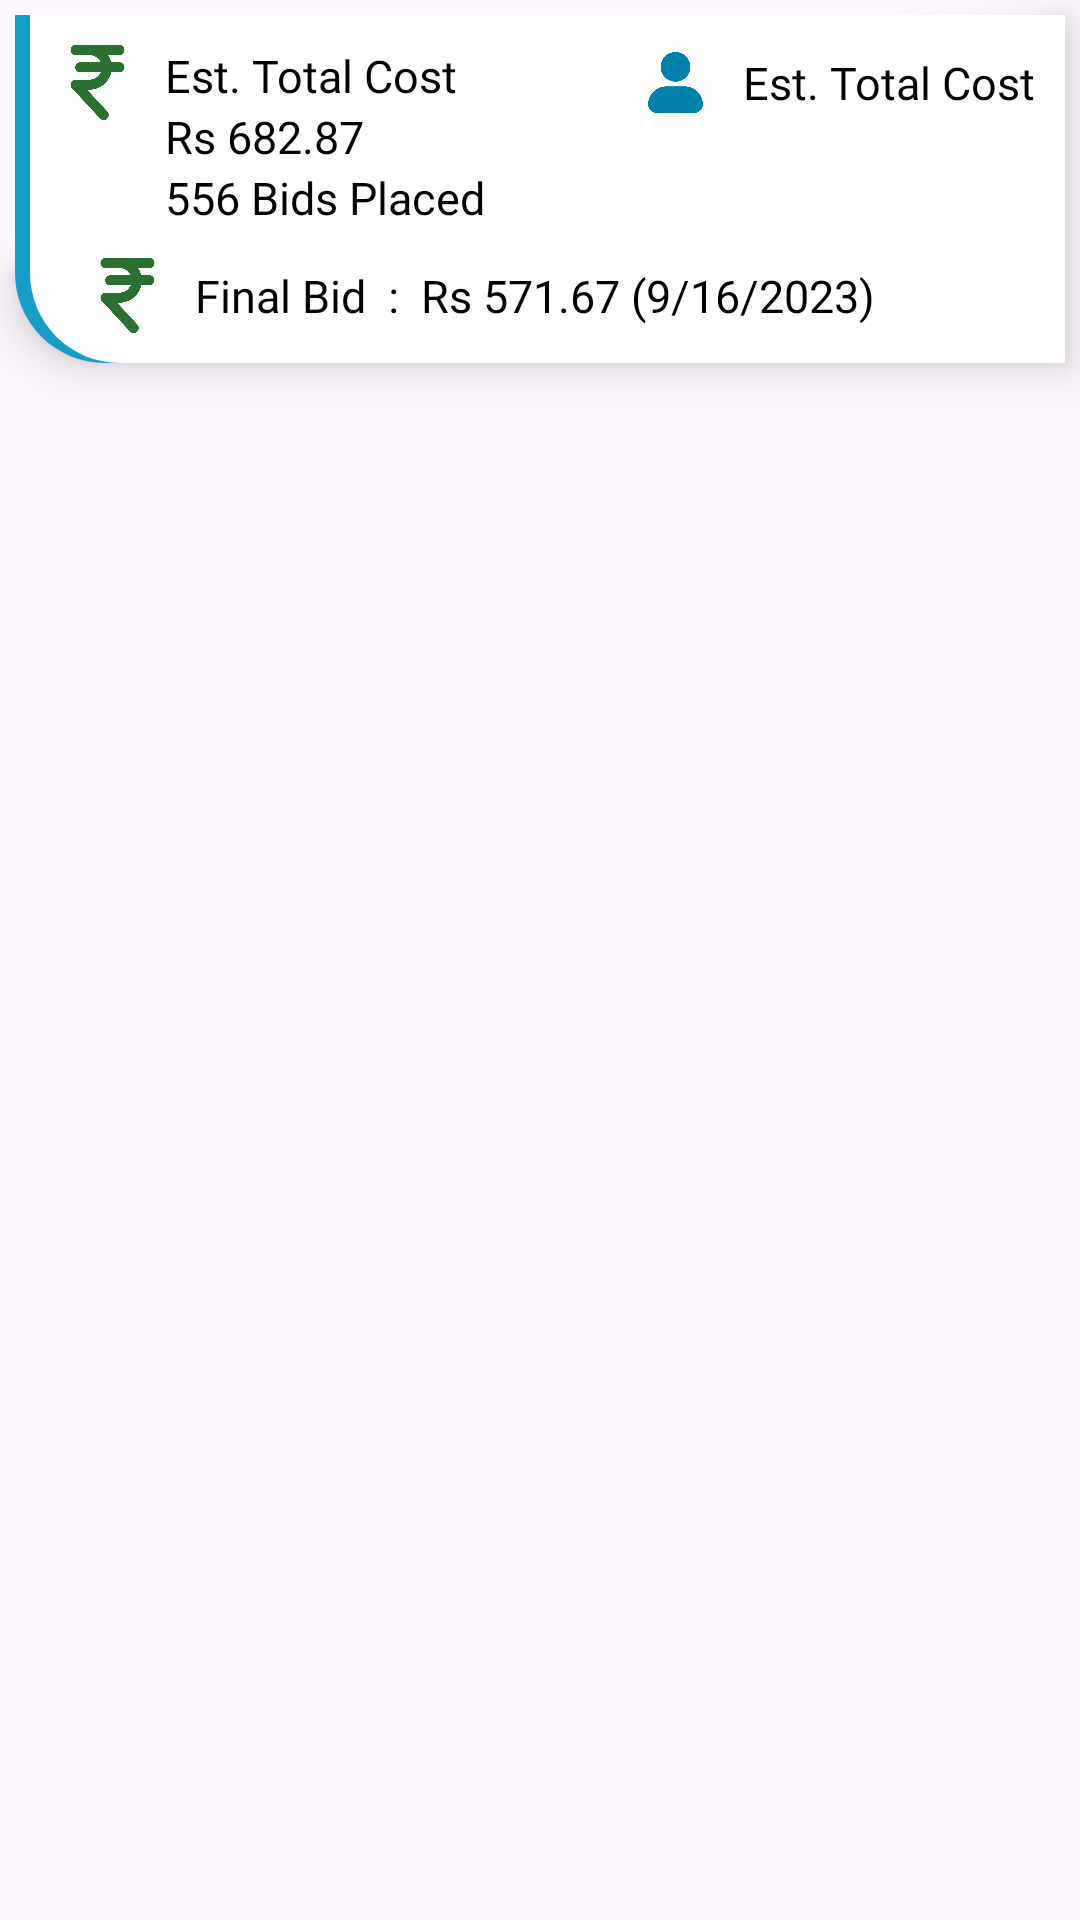

Where icons sit on this 1080×1920 app screen, as (x1, y1, x2, y2):
rupee: (70, 45, 125, 120), (100, 258, 155, 333)
user: (648, 52, 703, 113)
